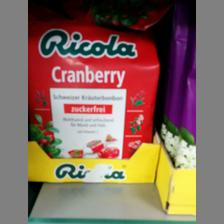Suessigkeit: (27, 22, 159, 162)
